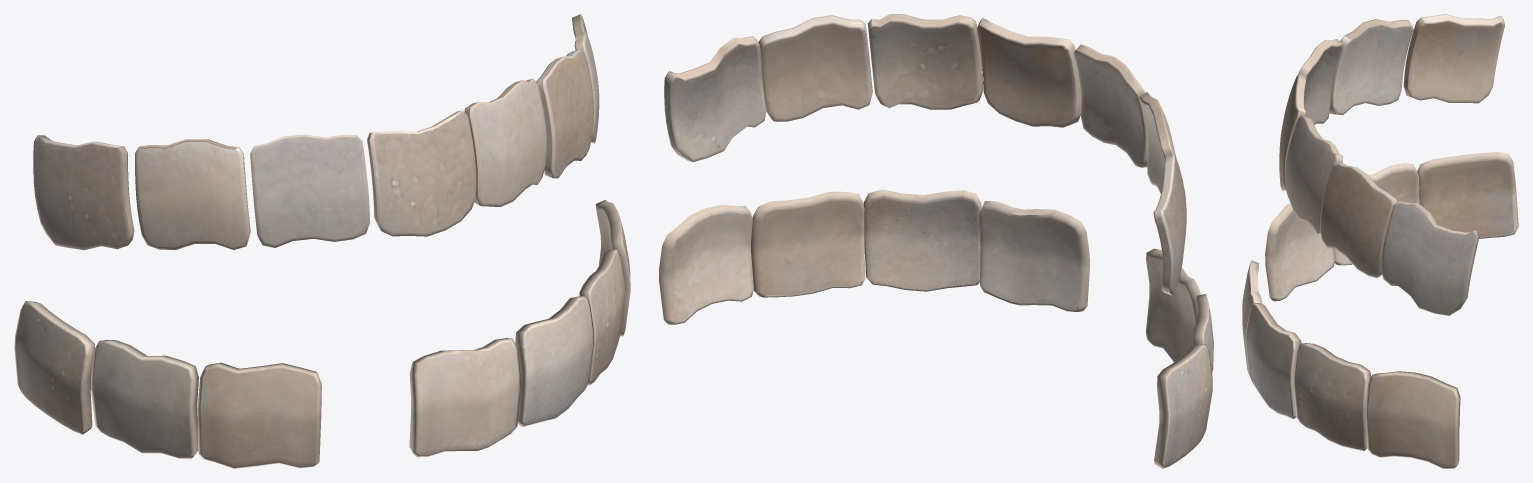
File: Tooth.fbx
The picture shows the model from 3 angles, left to right: view 1: azimuth 30°, elevation 25°; view 2: azimuth 150°, elevation 25°; view 3: azimuth 270°, elevation 25°; orthographic projection. The views are drawn at different scales.
Visible parts, largest first — view 1: polySurface98; view 2: polySurface98; view 3: polySurface98.
Boxes of the visible parts, <box> form: polySurface98: <box>14,14,630,468</box>; polySurface98: <box>659,14,1213,468</box>; polySurface98: <box>1242,14,1518,468</box>.
Bounding box in the file's own units: 345 × 187 × 173.
Materials: 1 (1 with a texture image).
